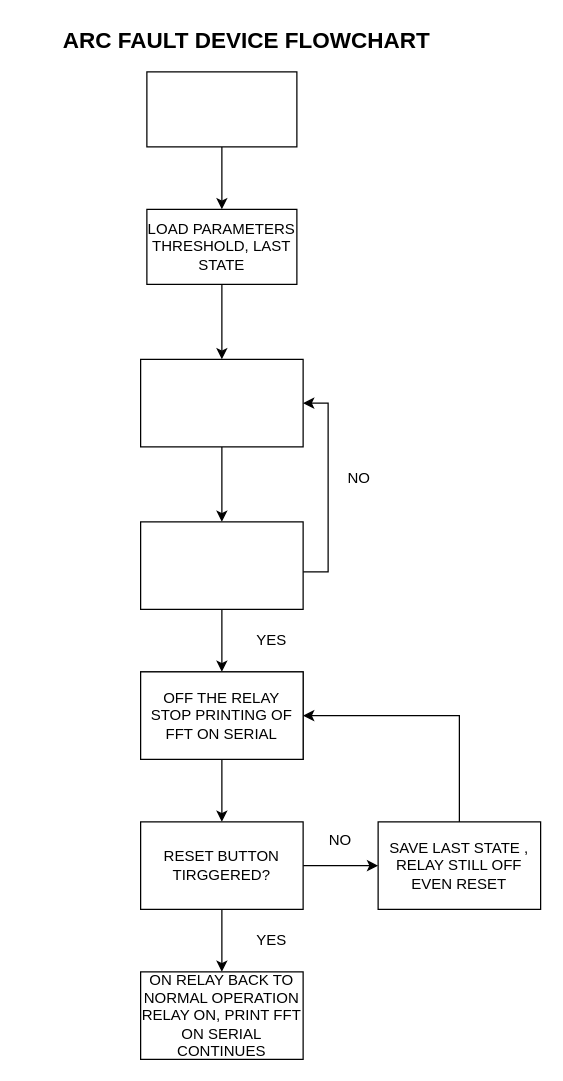
The diagram is 563 pixels wide and 1081 high, and some of its shapes have lost their labels. Each missing label, with the box of its shape:
ARCFAULT THRESHOLD DETECTED?: (139, 521, 303, 609)
DEVICE POWER ON: (146, 71, 297, 147)
INSTANTENOUS READING OF ARCFAULT , AND CONVERTING IT ON FFT: (139, 358, 303, 447)
